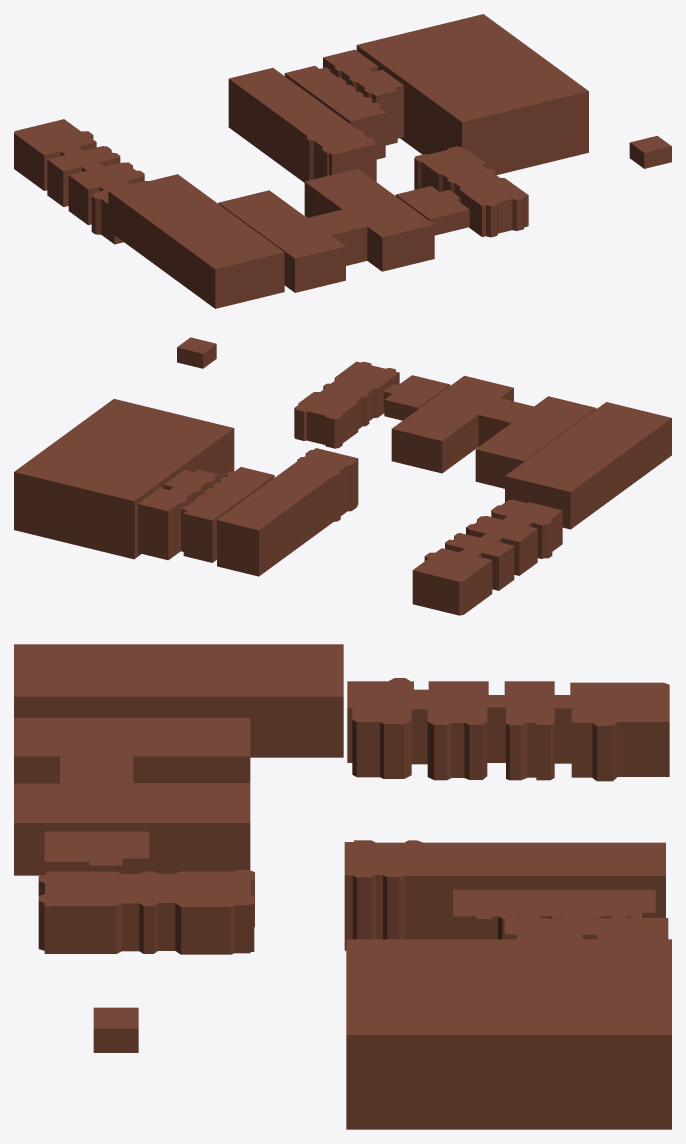
File: basic_buildings_632_1.fbx
3 renders of one model, top to bottom at view 1: azimuth 30°, elevation 25°; view 2: azimuth 150°, elevation 25°; view 3: azimuth 270°, elevation 25°, orthographic. The views are drawn at different scales.
Visible parts, largest first — view 1: Model; view 2: Model; view 3: Model.
Part boxes in pixels (box(x1,y1,x2,y2)): Model: box(14, 14, 671, 308); Model: box(14, 337, 671, 615); Model: box(14, 644, 671, 1129).
Size of the model in its own units: 5673 by 896 by 4345.
